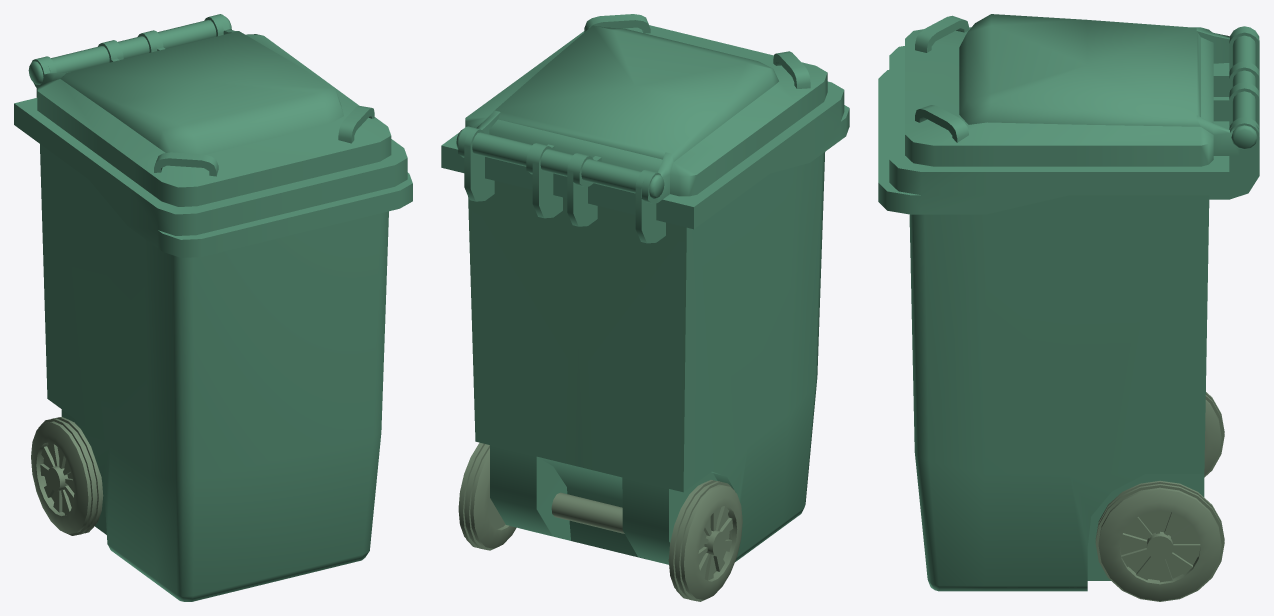
Rendered from WheelieBin_01.fbx.
The picture shows the model from 3 angles, left to right: view 1: azimuth 30°, elevation 25°; view 2: azimuth 150°, elevation 25°; view 3: azimuth 270°, elevation 25°; orthographic projection. The views are drawn at different scales.
Visible parts, largest first — view 1: WheelieBin_01, WheelieBin01_Wheels; view 2: WheelieBin_01, WheelieBin01_Wheels; view 3: WheelieBin_01, WheelieBin01_Wheels.
Boxes of the visible parts, left/top/right/bottom form: WheelieBin_01: left=14, top=14, right=412, bottom=601; WheelieBin01_Wheels: left=31, top=417, right=103, bottom=535; WheelieBin_01: left=441, top=14, right=849, bottom=564; WheelieBin01_Wheels: left=458, top=443, right=742, bottom=601; WheelieBin_01: left=878, top=14, right=1259, bottom=591; WheelieBin01_Wheels: left=1095, top=392, right=1224, bottom=601.
Bounding box in the file's own units: 2.18 × 3.83 × 2.72.
